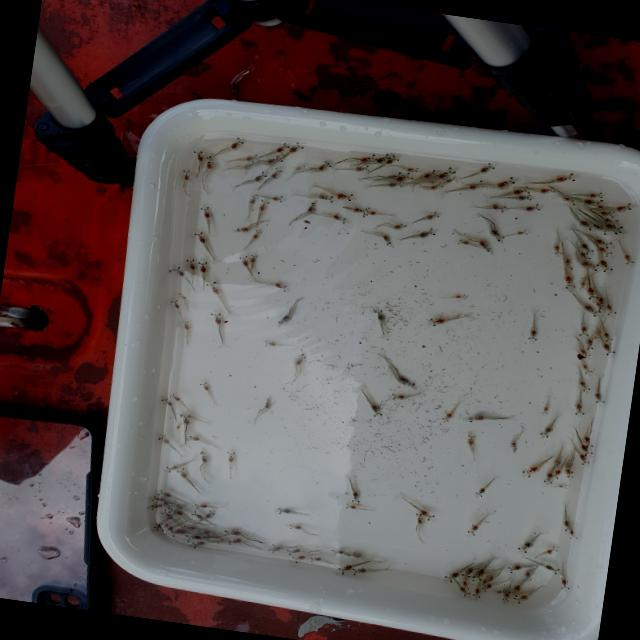babyshrimp: (204, 277, 226, 297), (494, 176, 522, 191), (520, 465, 544, 480), (436, 166, 460, 181), (329, 191, 359, 203), (395, 376, 419, 391), (554, 172, 581, 184), (276, 312, 295, 329), (287, 141, 310, 155), (416, 508, 438, 522), (209, 311, 227, 328), (512, 593, 535, 606), (334, 563, 355, 577), (169, 263, 188, 278), (539, 424, 556, 440), (582, 303, 601, 317), (507, 585, 527, 598), (479, 161, 499, 174), (601, 342, 617, 358), (517, 540, 534, 555), (600, 258, 615, 275), (561, 255, 576, 272), (477, 239, 492, 256), (253, 168, 270, 183), (615, 202, 638, 213), (466, 180, 489, 191), (576, 219, 597, 231), (442, 571, 461, 584), (505, 562, 524, 575), (594, 236, 613, 249), (574, 398, 586, 418), (585, 285, 600, 301), (580, 260, 600, 272), (490, 228, 505, 244), (419, 227, 439, 239), (330, 213, 350, 225), (193, 228, 208, 244), (293, 352, 308, 368), (230, 137, 247, 151), (581, 198, 604, 208), (472, 569, 488, 583), (369, 403, 383, 419), (464, 413, 486, 423), (606, 223, 626, 234), (537, 186, 559, 196), (544, 563, 562, 575), (274, 142, 292, 154), (154, 434, 172, 446), (466, 523, 481, 537), (474, 485, 488, 500), (426, 317, 447, 327), (458, 568, 474, 581), (563, 466, 576, 482), (160, 395, 176, 408), (564, 273, 576, 290), (512, 186, 532, 196), (266, 155, 284, 166), (197, 257, 208, 275), (561, 518, 575, 532), (577, 452, 590, 467), (581, 364, 596, 377), (577, 248, 592, 261), (581, 243, 596, 256), (562, 193, 577, 206), (306, 200, 319, 215), (199, 204, 212, 219), (349, 490, 361, 506), (559, 577, 571, 593), (594, 393, 606, 409), (597, 246, 613, 258), (316, 161, 332, 173), (193, 149, 205, 165), (374, 308, 386, 324), (198, 448, 210, 464), (424, 211, 443, 221), (358, 154, 377, 164), (275, 507, 296, 516), (544, 470, 555, 487), (385, 154, 402, 165), (578, 380, 591, 394), (622, 253, 636, 266), (579, 444, 594, 456), (527, 327, 539, 342), (489, 204, 509, 213), (199, 379, 211, 394), (180, 411, 192, 426), (163, 464, 183, 473), (225, 537, 247, 545), (375, 154, 391, 165), (186, 257, 197, 273), (351, 164, 370, 173), (241, 161, 260, 170), (351, 206, 368, 216), (604, 303, 617, 316), (223, 528, 244, 536), (441, 412, 455, 424), (351, 567, 369, 576), (395, 173, 413, 182), (584, 192, 607, 199), (191, 510, 207, 520), (291, 554, 307, 564), (584, 433, 594, 449), (516, 193, 536, 201), (185, 436, 205, 444), (151, 521, 164, 533), (551, 469, 564, 481), (602, 330, 615, 342), (258, 199, 270, 212), (176, 467, 188, 480), (465, 432, 476, 446), (540, 403, 551, 417), (157, 489, 174, 498), (523, 205, 542, 213), (159, 509, 174, 519), (545, 545, 560, 555), (187, 541, 205, 549), (285, 547, 301, 556), (347, 551, 363, 560), (603, 218, 621, 226), (507, 440, 518, 453), (579, 325, 590, 338), (171, 297, 182, 310), (181, 319, 192, 332), (458, 587, 472, 597), (431, 182, 445, 192), (387, 393, 407, 400), (227, 451, 237, 465), (185, 535, 202, 543), (268, 545, 283, 554), (423, 170, 438, 179), (205, 155, 214, 170), (168, 393, 183, 402), (472, 589, 483, 601), (552, 458, 563, 470), (580, 348, 591, 360), (271, 168, 283, 179), (287, 523, 303, 531), (553, 244, 561, 260), (600, 210, 616, 218), (391, 223, 407, 231), (269, 195, 285, 203), (263, 340, 279, 348), (459, 581, 470, 592), (252, 230, 263, 241), (173, 509, 188, 517), (403, 167, 423, 173), (248, 195, 260, 205), (176, 291, 188, 301), (383, 235, 393, 247), (149, 495, 166, 502), (152, 502, 169, 509), (456, 239, 473, 246), (345, 503, 359, 511), (169, 530, 185, 537), (481, 584, 495, 592), (502, 590, 510, 604), (247, 154, 261, 162), (569, 530, 579, 541), (415, 513, 424, 525), (524, 572, 533, 584), (193, 502, 208, 509), (309, 556, 324, 563), (264, 397, 272, 410), (184, 524, 198, 531), (331, 548, 345, 555), (555, 483, 569, 490), (586, 339, 594, 351), (579, 279, 587, 291), (183, 170, 191, 182), (205, 510, 215, 519), (160, 528, 175, 534), (159, 523, 170, 531), (233, 228, 250, 233), (365, 210, 376, 217), (388, 182, 400, 188), (517, 229, 528, 235), (174, 421, 182, 429), (455, 294, 465, 300)
